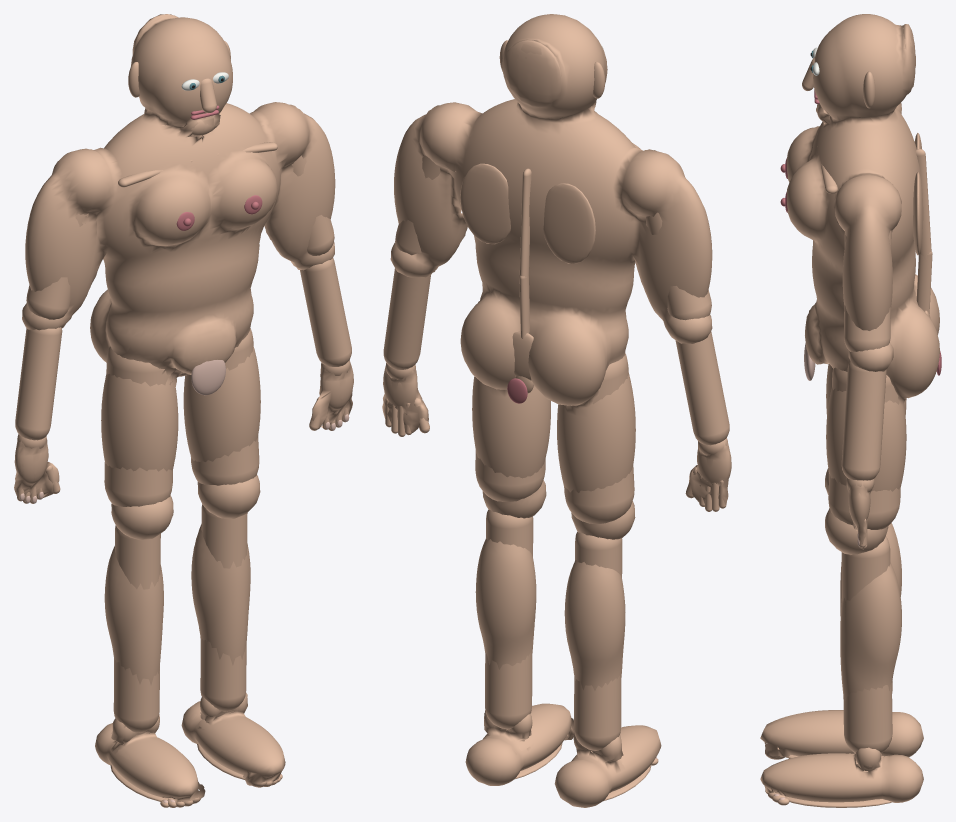
File: body-erwachsener-divers-unbekannt-brueste-v2.glb
The picture shows the model from 3 angles, left to right: view 1: azimuth 30°, elevation 25°; view 2: azimuth 150°, elevation 25°; view 3: azimuth 270°, elevation 25°; orthographic projection. The views are drawn at different scales.
Visible parts, largest first — view 1: zone__visual-surface-body-erwachsener-divers-unbekannt-brues, zone__surface-lower-leg-right, zone__surface-lower-leg-left, zone__surface-forearm-left, zone__surface-thigh-left, zone__surface-forearm-right, zone__surface-thigh-right, zone__surface-upper-arm-left, zone__surface-upper-arm-right, zone__surface-genital-observation-deferred; view 2: zone__visual-surface-body-erwachsener-divers-unbekannt-brues, zone__surface-lower-leg-left, zone__surface-lower-leg-right, zone__surface-forearm-left, zone__surface-forearm-right, zone__surface-scapula-left, zone__surface-scapula-right, zone__surface-thigh-left, zone__surface-thigh-right, zone__surface-upper-arm-left, zone__surface-thoracic-spine, zone__surface-upper-arm-right (+1 smaller); view 3: zone__visual-surface-body-erwachsener-divers-unbekannt-brues, zone__surface-lower-leg-right, zone__surface-forearm-right, zone__surface-thigh-right, zone__surface-upper-arm-right, zone__surface-thoracic-spine, zone__surface-lumbar-spine, zone__surface-scapula-right, zone__surface-sole-right, zone__surface-ear-right.
Boxes of the visible parts, left/top/right/bottom form: zone__visual-surface-body-erwachsener-divers-unbekannt-brues: left=14, top=14, right=353, bottom=802; zone__surface-lower-leg-right: left=200, top=504, right=247, bottom=711; zone__surface-lower-leg-left: left=113, top=525, right=160, bottom=732; zone__surface-forearm-left: left=15, top=327, right=62, bottom=440; zone__surface-thigh-left: left=104, top=346, right=173, bottom=506; zone__surface-forearm-right: left=300, top=258, right=351, bottom=366; zone__surface-thigh-right: left=190, top=328, right=259, bottom=485; zone__surface-upper-arm-left: left=26, top=213, right=88, bottom=319; zone__surface-upper-arm-right: left=291, top=155, right=334, bottom=255; zone__surface-genital-observation-deferred: left=191, top=360, right=225, bottom=395; zone__visual-surface-body-erwachsener-divers-unbekannt-brues: left=382, top=14, right=731, bottom=807; zone__surface-lower-leg-left: left=574, top=532, right=622, bottom=750; zone__surface-lower-leg-right: left=485, top=509, right=533, bottom=729; zone__surface-forearm-left: left=675, top=331, right=729, bottom=445; zone__surface-forearm-right: left=383, top=268, right=430, bottom=369; zone__surface-scapula-left: left=543, top=183, right=595, bottom=263; zone__surface-scapula-right: left=460, top=163, right=510, bottom=244; zone__surface-thigh-left: left=564, top=353, right=634, bottom=523; zone__surface-thigh-right: left=475, top=450, right=545, bottom=501; zone__surface-upper-arm-left: left=646, top=212, right=711, bottom=320; zone__surface-thoracic-spine: left=519, top=168, right=531, bottom=282; zone__surface-upper-arm-right: left=395, top=155, right=456, bottom=255; zone__visual-surface-body-erwachsener-divers-unbekannt-brues: left=760, top=14, right=939, bottom=802; zone__surface-lower-leg-right: left=841, top=536, right=892, bottom=753; zone__surface-forearm-right: left=841, top=360, right=886, bottom=480; zone__surface-thigh-right: left=828, top=367, right=900, bottom=529; zone__surface-upper-arm-right: left=844, top=230, right=891, bottom=351; zone__surface-thoracic-spine: left=915, top=149, right=931, bottom=259; zone__surface-lumbar-spine: left=916, top=251, right=932, bottom=313; zone__surface-scapula-right: left=913, top=172, right=923, bottom=255; zone__surface-sole-right: left=786, top=796, right=892, bottom=807; zone__surface-ear-right: left=863, top=71, right=875, bottom=108.
Size of the model in its own units: 0.8172 by 1.72 by 0.3729.
